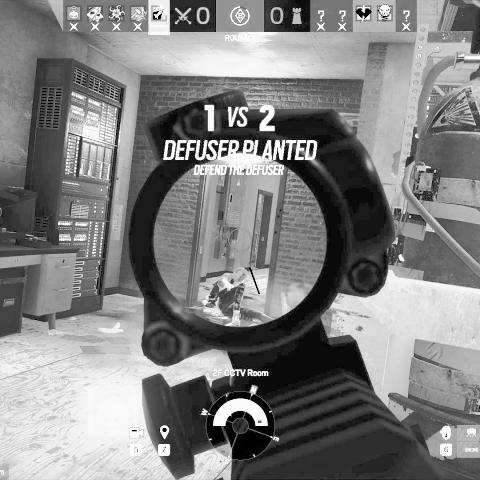Character: (201, 266, 277, 327)
Head: (232, 266, 248, 284)
